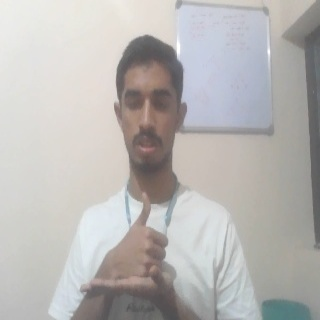Face: (113, 34, 188, 177)
Help: (76, 187, 178, 303)
